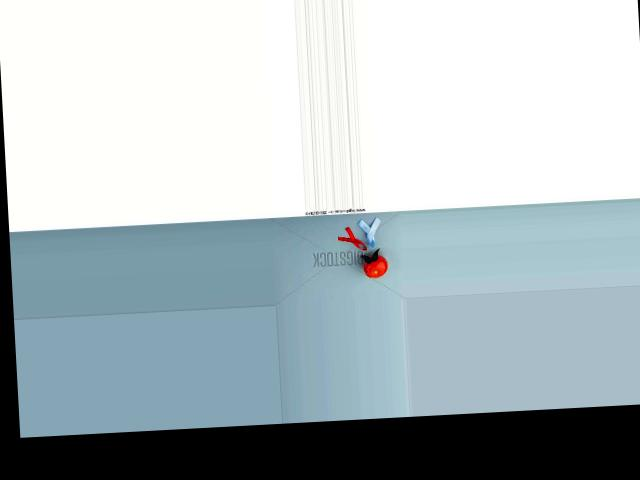tomato: (362, 254, 387, 278)
